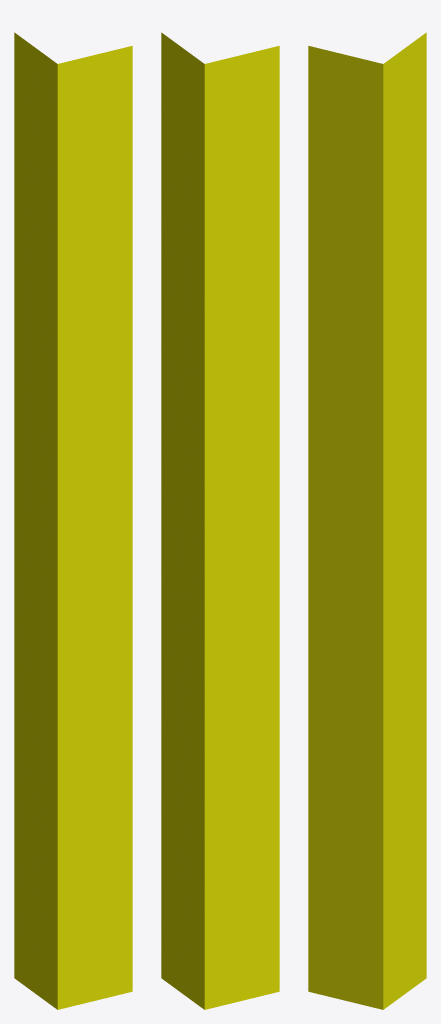
The model's file is metal-column-small-center.glb.
3 views of the same model, side by side, from view 1: azimuth 30°, elevation 25°; view 2: azimuth 210°, elevation 25°; view 3: azimuth 330°, elevation 25° (orthographic).
Visible parts, largest first — view 1: Metal_Column_Small_Center; view 2: Metal_Column_Small_Center; view 3: Metal_Column_Small_Center.
Part boxes in pixels (bbox=[...]): Metal_Column_Small_Center: bbox=[14, 32, 132, 1009]; Metal_Column_Small_Center: bbox=[161, 32, 279, 1009]; Metal_Column_Small_Center: bbox=[308, 32, 426, 1009].
Bounding box in the file's own units: 0.2489 × 3 × 0.2491.
Materials: 1 (1 with a texture image).
